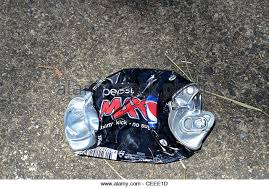can: (48, 63, 242, 173)
